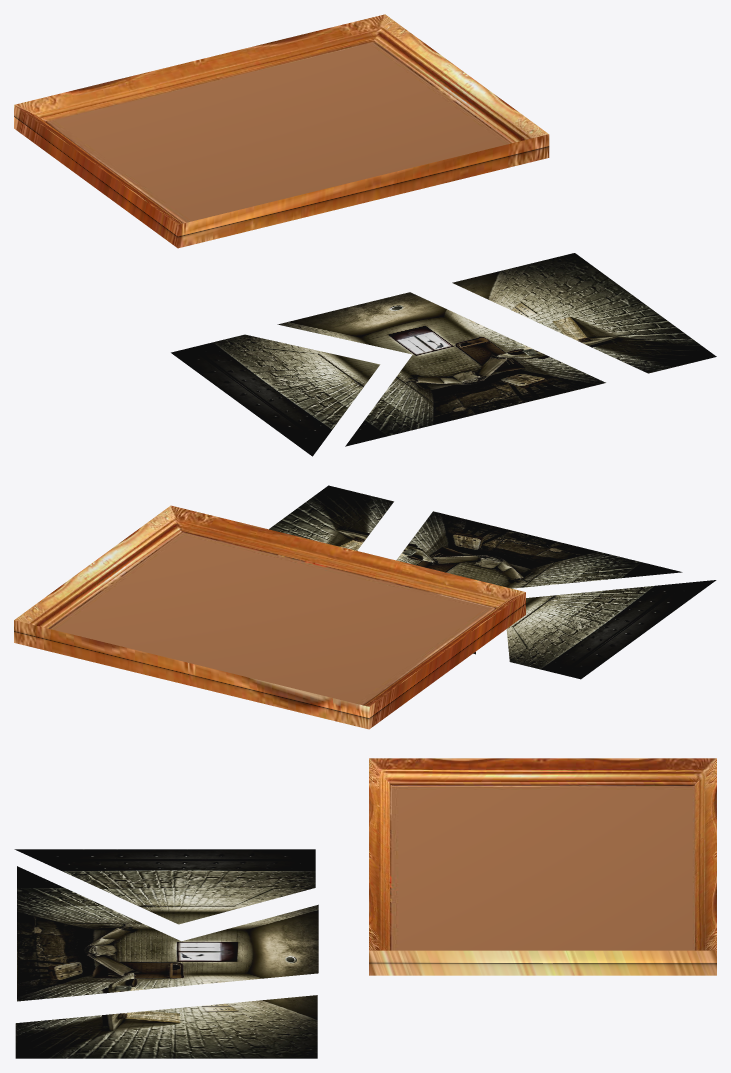
Rendered from picture_frame.fbx.
3 views of the same model, one above another, from view 1: azimuth 30°, elevation 25°; view 2: azimuth 150°, elevation 25°; view 3: azimuth 270°, elevation 25° (orthographic). The views are drawn at different scales.
Parts seen in each view (by area): view 1: Frame, Picture Piece 2, Picture Piece 3, Picture Piece 1; view 2: Frame, Picture Piece 1, Picture Piece 2, Picture Piece 3; view 3: Frame, Picture Piece 2, Picture Piece 3, Picture Piece 1.
Boxes of the visible parts, <box> form: Frame: <box>14,14,549,248</box>; Picture Piece 2: <box>277,292,605,446</box>; Picture Piece 3: <box>452,253,716,373</box>; Picture Piece 1: <box>171,334,380,456</box>; Frame: <box>14,505,525,729</box>; Picture Piece 1: <box>506,580,716,679</box>; Picture Piece 2: <box>396,511,682,654</box>; Picture Piece 3: <box>269,485,393,550</box>; Frame: <box>369,758,716,975</box>; Picture Piece 2: <box>17,866,318,1001</box>; Picture Piece 3: <box>15,995,317,1058</box>; Picture Piece 1: <box>14,849,315,924</box>.
Size of the model in its own units: 1886 by 452 by 2668.
